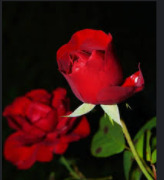RedRose: (54, 27, 145, 107), (2, 87, 88, 166)
